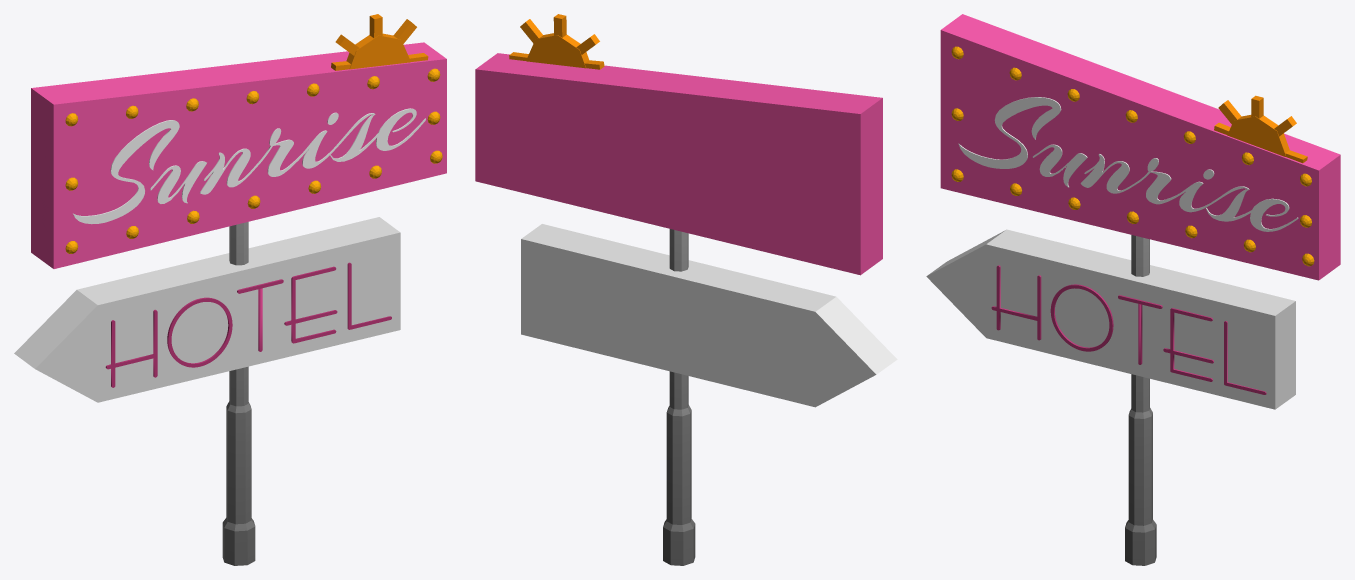
File: Hotel_sign_02.fbx
The picture shows the model from 3 angles, left to right: view 1: azimuth 30°, elevation 25°; view 2: azimuth 150°, elevation 25°; view 3: azimuth 330°, elevation 25°; orthographic projection. The views are drawn at different scales.
Visible parts, largest first — view 1: Hotel_sign_02; view 2: Hotel_sign_02; view 3: Hotel_sign_02.
Part boxes in pixels (bbox=[...]): Hotel_sign_02: bbox=[14, 14, 446, 565]; Hotel_sign_02: bbox=[475, 14, 897, 565]; Hotel_sign_02: bbox=[926, 14, 1340, 565].
Size of the model in its own units: 209 by 251 by 22.96.
